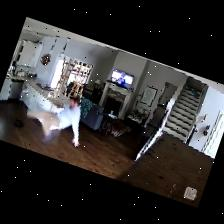person: (26, 97, 79, 146), (116, 73, 124, 86)
